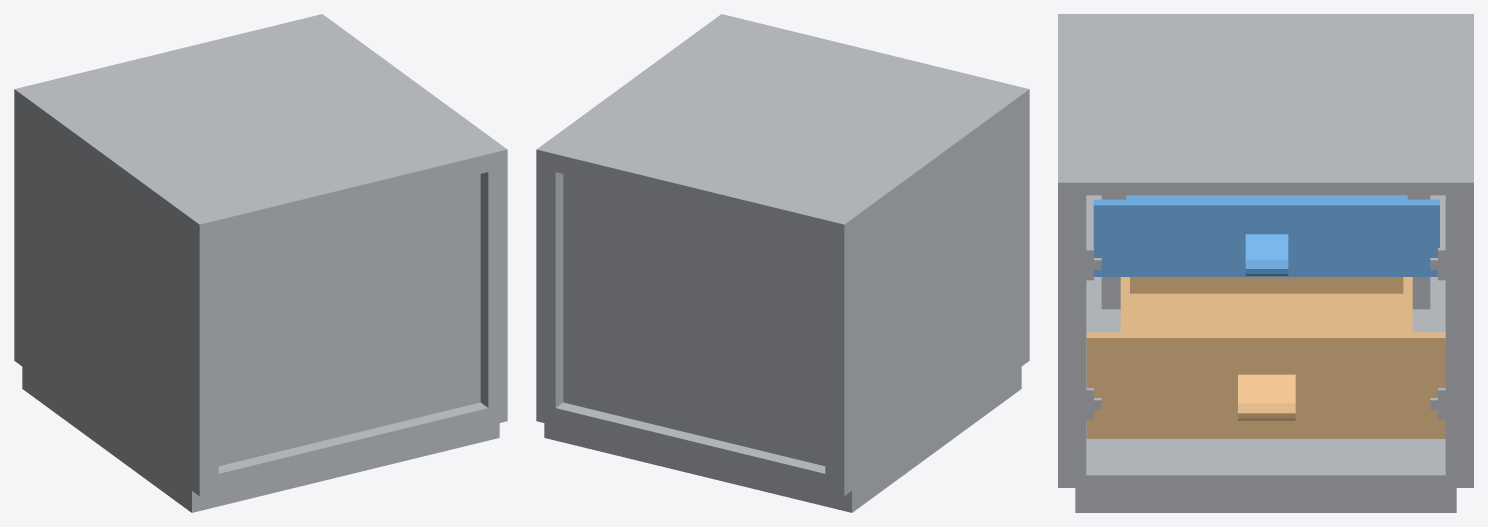
Rendered from parts.glb.
3 views of the same model, side by side, from view 1: azimuth 30°, elevation 25°; view 2: azimuth 150°, elevation 25°; view 3: azimuth 270°, elevation 25° (orthographic). The views are drawn at different scales.
Parts seen in each view (by area): view 1: visual_0_0; view 2: visual_0_0; view 3: visual_0_0, visual_2_0, visual_1_0.
Part boxes in pixels (bbox=[...]): visual_0_0: bbox=[14, 14, 507, 512]; visual_0_0: bbox=[536, 14, 1029, 512]; visual_0_0: bbox=[1058, 14, 1473, 512]; visual_2_0: bbox=[1086, 277, 1445, 438]; visual_1_0: bbox=[1093, 195, 1439, 276].
Bounding box in the file's own units: 1.22 × 1.04 × 1.18.
